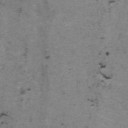oxide scale of temperature system: (96, 50, 112, 89), (41, 54, 51, 76), (19, 86, 32, 102), (0, 112, 11, 125), (88, 98, 98, 108), (20, 48, 29, 58), (16, 6, 24, 16), (107, 0, 115, 4), (99, 36, 105, 40), (61, 122, 64, 126)
